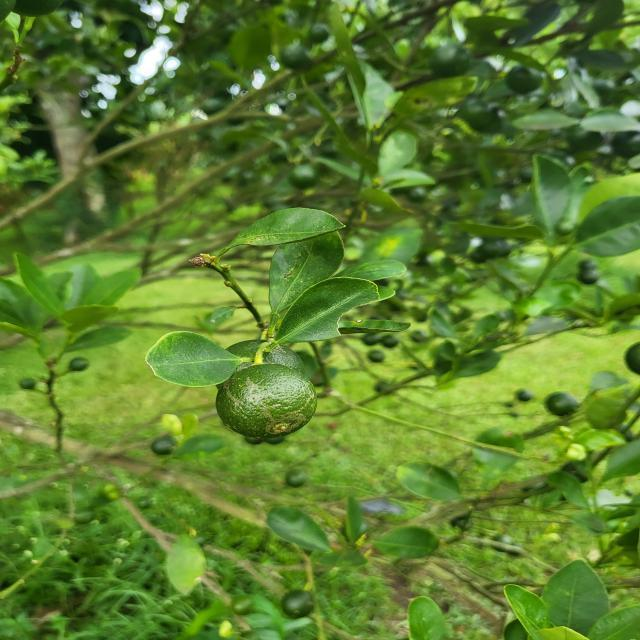thrips: (212, 362, 318, 440)
